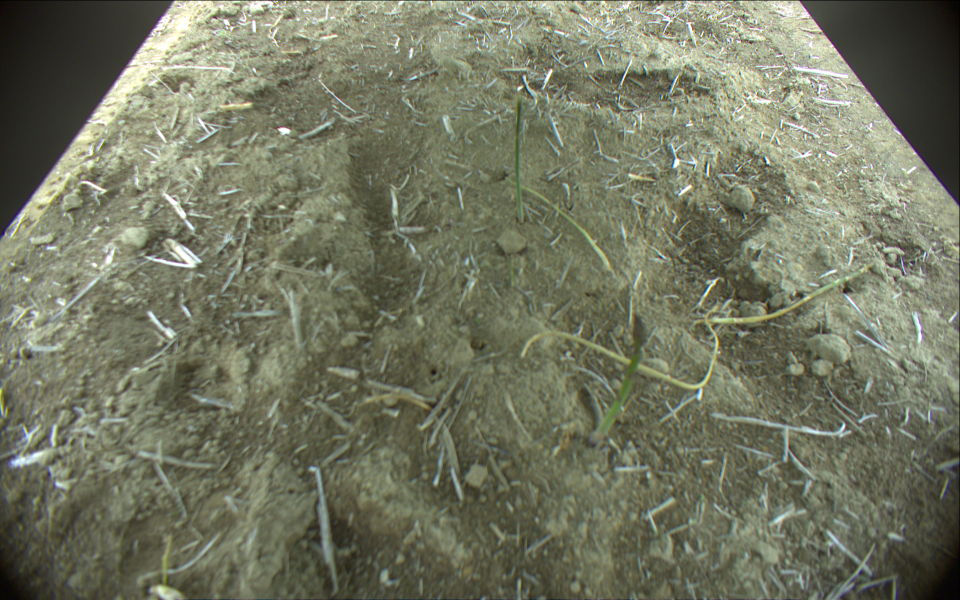aspa: (708, 266, 872, 329), (510, 176, 613, 270), (600, 310, 646, 437), (515, 95, 525, 222)
